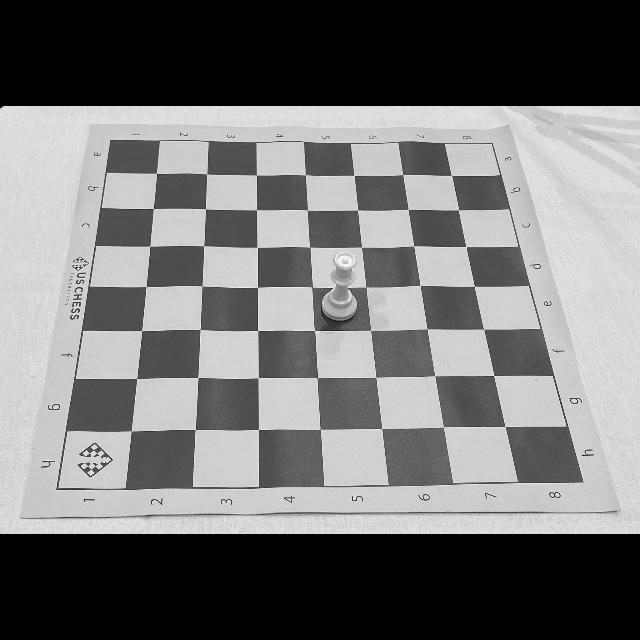chessboard: (58, 139, 585, 488)
